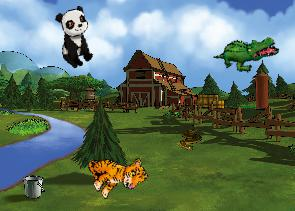crocodile: (212, 21, 281, 84)
panda: (53, 5, 97, 70)
tiger: (82, 140, 150, 205)
